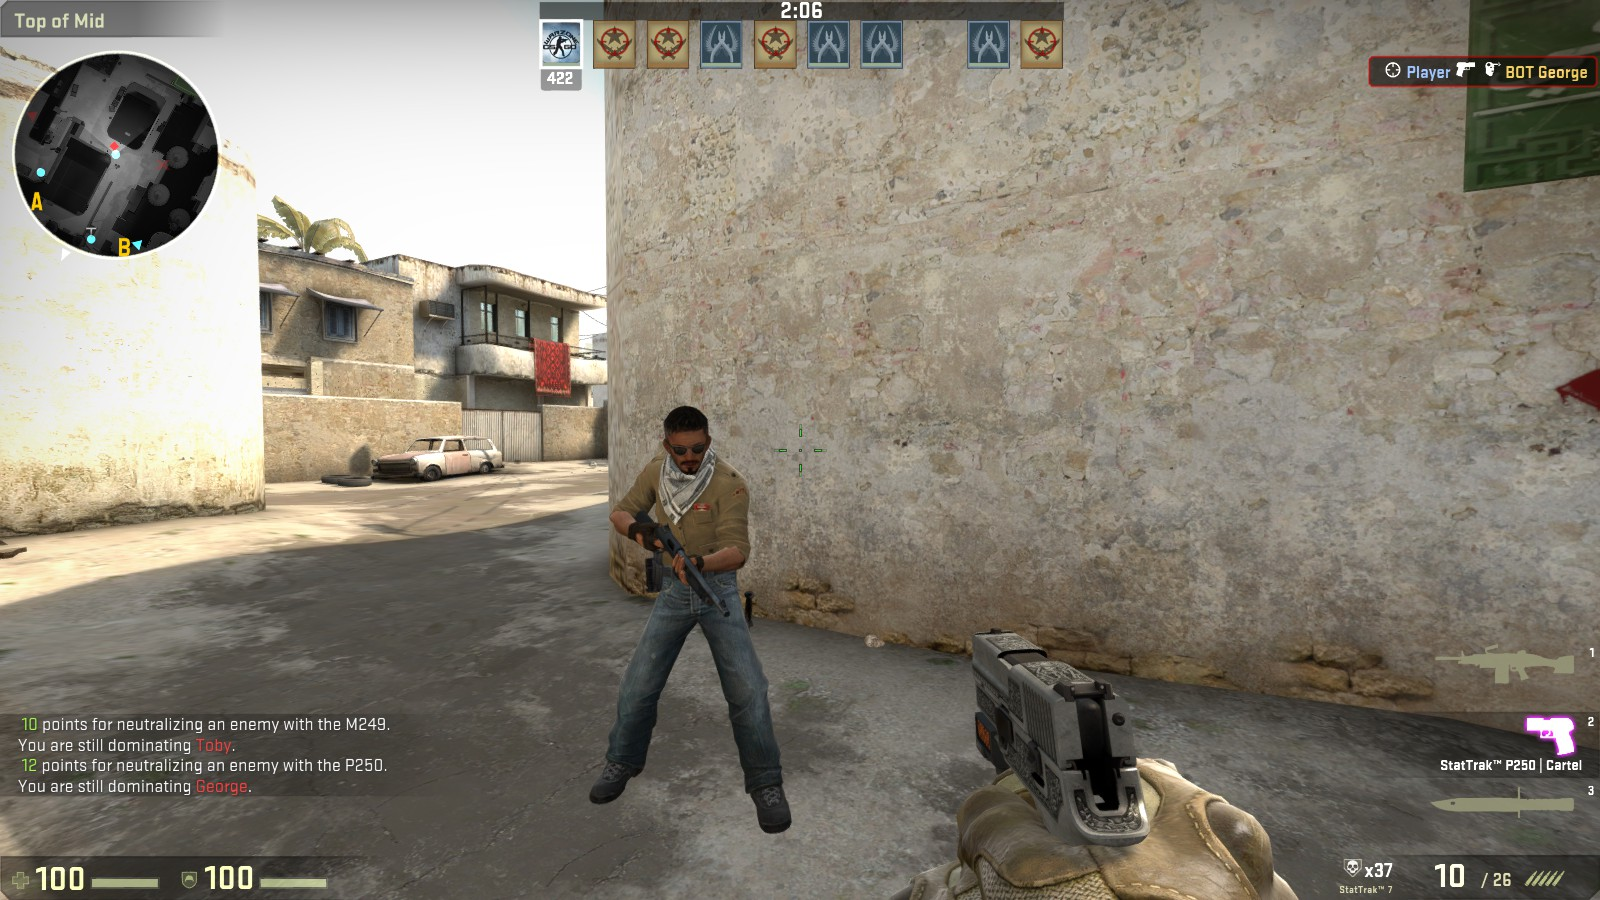t: (612, 405, 781, 830)
th: (652, 408, 716, 478)
